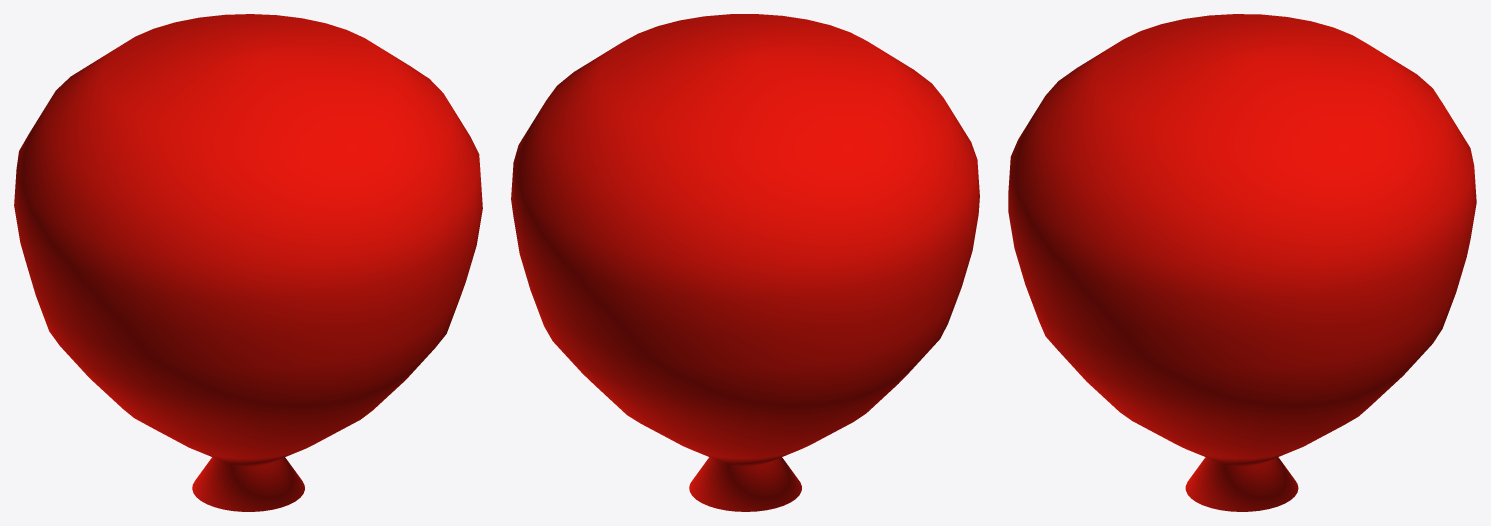
Rendered from Balloon.fbx.
3 views of the same model, side by side, from view 1: azimuth 30°, elevation 25°; view 2: azimuth 150°, elevation 25°; view 3: azimuth 270°, elevation 25° (orthographic).
Visible parts, largest first — view 1: Cylinder; view 2: Cylinder; view 3: Cylinder.
Part boxes in pixels (box(x1,y1,x2,y2)): Cylinder: box(14, 14, 482, 511); Cylinder: box(511, 14, 979, 511); Cylinder: box(1008, 14, 1476, 511).
Size of the model in its own units: 230 by 235 by 230.
